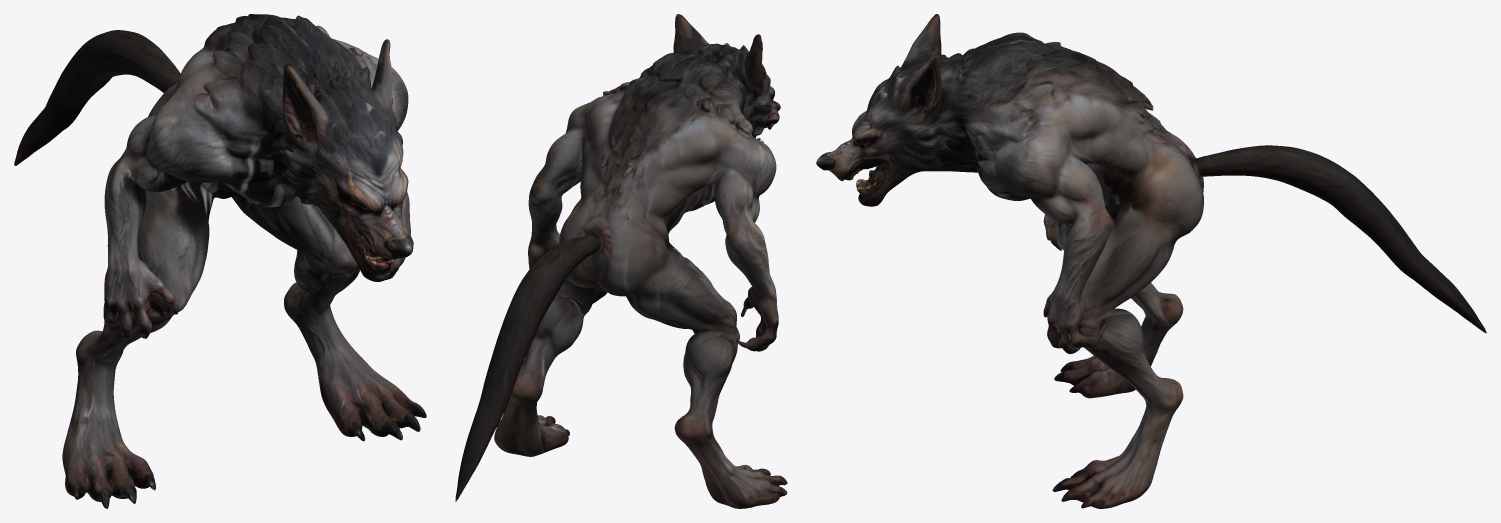
File: werewolf.glb
3 views of the same model, side by side, from view 1: azimuth 30°, elevation 25°; view 2: azimuth 150°, elevation 25°; view 3: azimuth 270°, elevation 25° (orthographic). The views are drawn at different scales.
Visible parts, largest first — view 1: Mesh_0; view 2: Mesh_0; view 3: Mesh_0.
Part boxes in pixels (box(x1,y1,x2,y2)): Mesh_0: box(14, 14, 426, 508); Mesh_0: box(455, 14, 787, 508); Mesh_0: box(816, 14, 1486, 508).
Size of the model in its own units: 1.03 by 1.34 by 2.01.
1 material, 1 textured.
